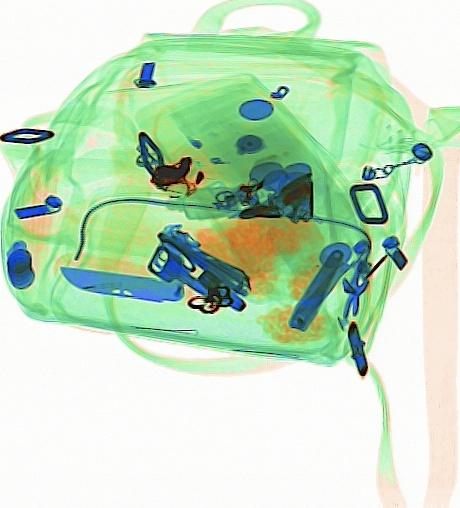knife: (52, 252, 189, 305)
